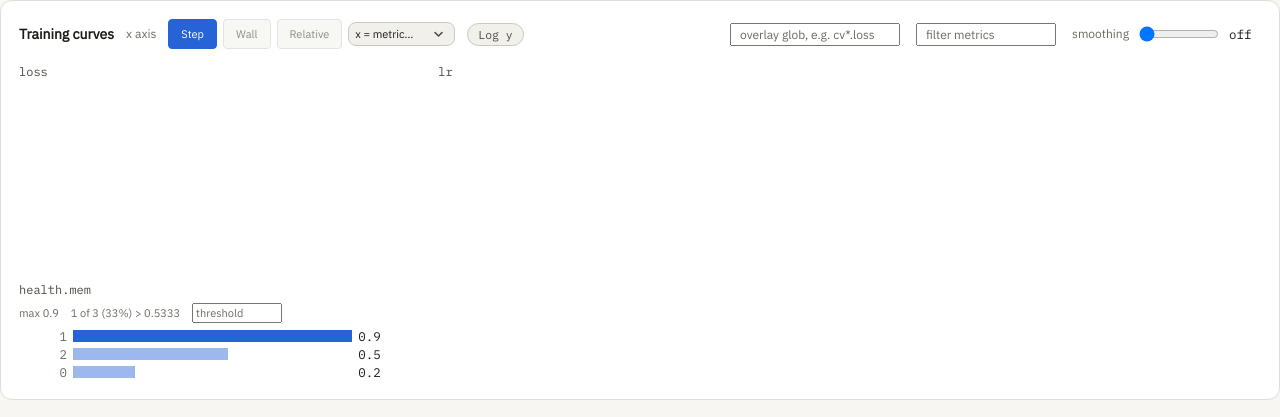
TrainingCurves chart hints (plan 28 N8) › draws a bars metric as bars sorted by value with its max and share
Check: the elements with test id "bar-step" read "1", "2", "0", in this order, box [60, 328, 67, 344]; [60, 346, 67, 362]; [60, 364, 67, 380]
Check: the text "max 0.9" is shown, box [19, 305, 59, 321]
Type "0.4" into the number field labelled "threshold".
click(237, 313); type("0.4")  # box [192, 303, 282, 323]
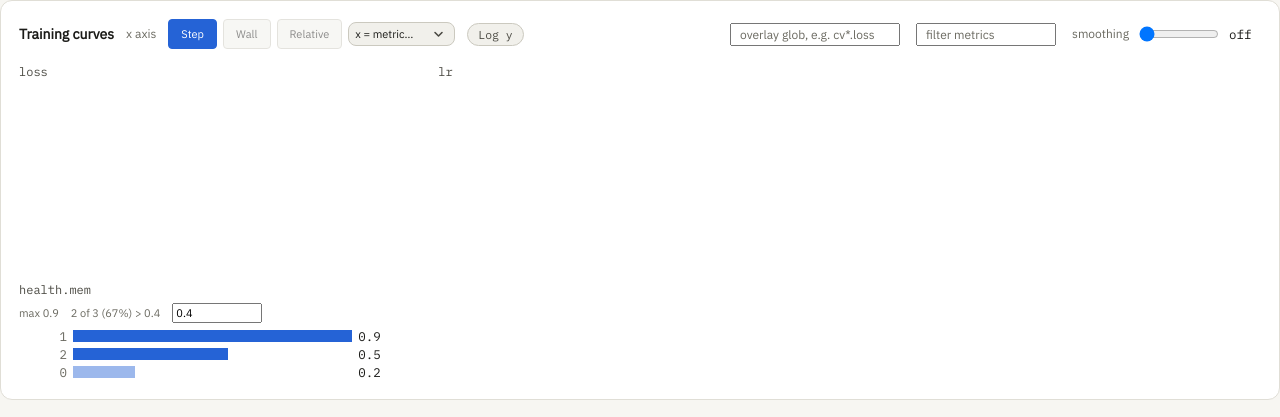
Check: the text "2 of 3 (67%) > 0.4" is shown, box [71, 305, 160, 321]
